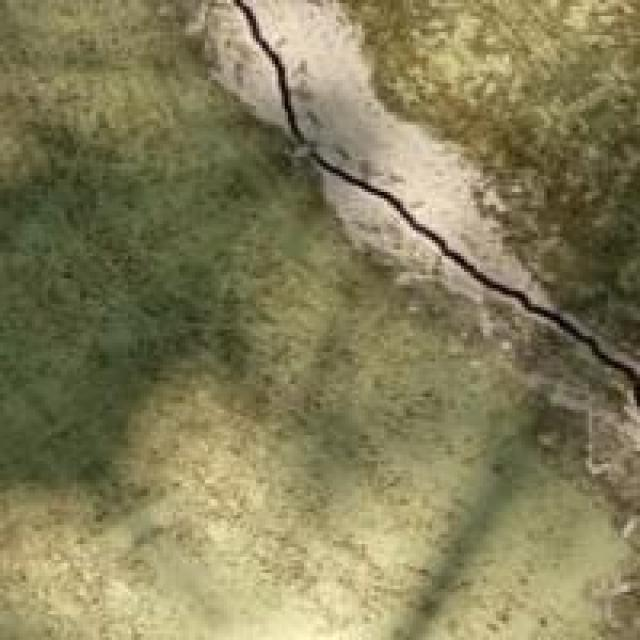crack: (230, 10, 628, 448)
